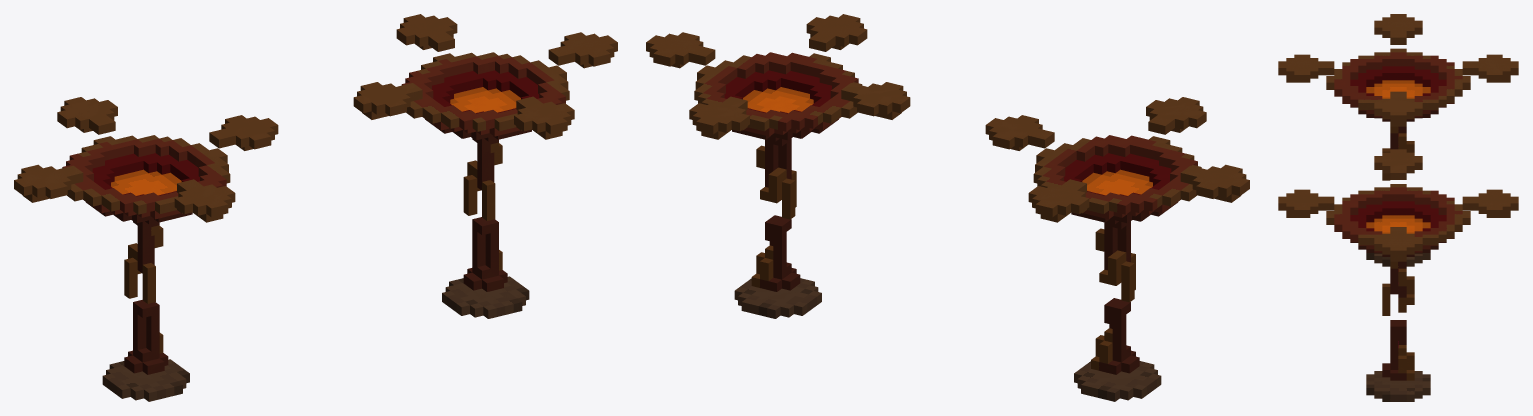
3 renders of one model, left to right at view 1: azimuth 30°, elevation 25°; view 2: azimuth 150°, elevation 25°; view 3: azimuth 270°, elevation 25°, orthographic. The views are drawn at different scales.
Parts seen in each view (by area): view 1: chum_16_detach, chum_16_detach.001, chum_16_detach.001_Backup, chum_16_detach_Backup; view 2: chum_16_detach.001, chum_16_detach, chum_16_detach.001_Backup, chum_16_detach_Backup; view 3: chum_16_detach.001, chum_16_detach, chum_16_detach.001_Backup, chum_16_detach_Backup.
Boxes of the visible parts, box(x1,y1,x2,y2) form: chum_16_detach: box(14, 97, 278, 401); chum_16_detach.001: box(353, 14, 617, 318); chum_16_detach.001_Backup: box(353, 14, 615, 317); chum_16_detach_Backup: box(14, 97, 277, 400); chum_16_detach.001: box(646, 14, 910, 318); chum_16_detach: box(985, 97, 1249, 401); chum_16_detach.001_Backup: box(648, 14, 909, 318); chum_16_detach_Backup: box(987, 97, 1249, 401); chum_16_detach.001: box(1278, 149, 1518, 401); chum_16_detach: box(1278, 14, 1518, 266); chum_16_detach.001_Backup: box(1279, 149, 1516, 401); chum_16_detach_Backup: box(1278, 14, 1517, 266).
Size of the model in its own units: 7 by 2.6 by 3.
Materials: 4 (2 with a texture image).
